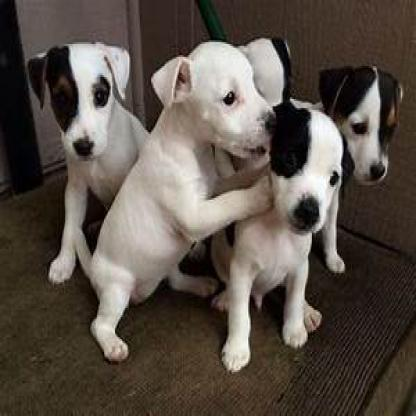dog: (89, 40, 276, 363), (211, 101, 344, 374), (26, 42, 151, 286), (319, 64, 415, 279)
